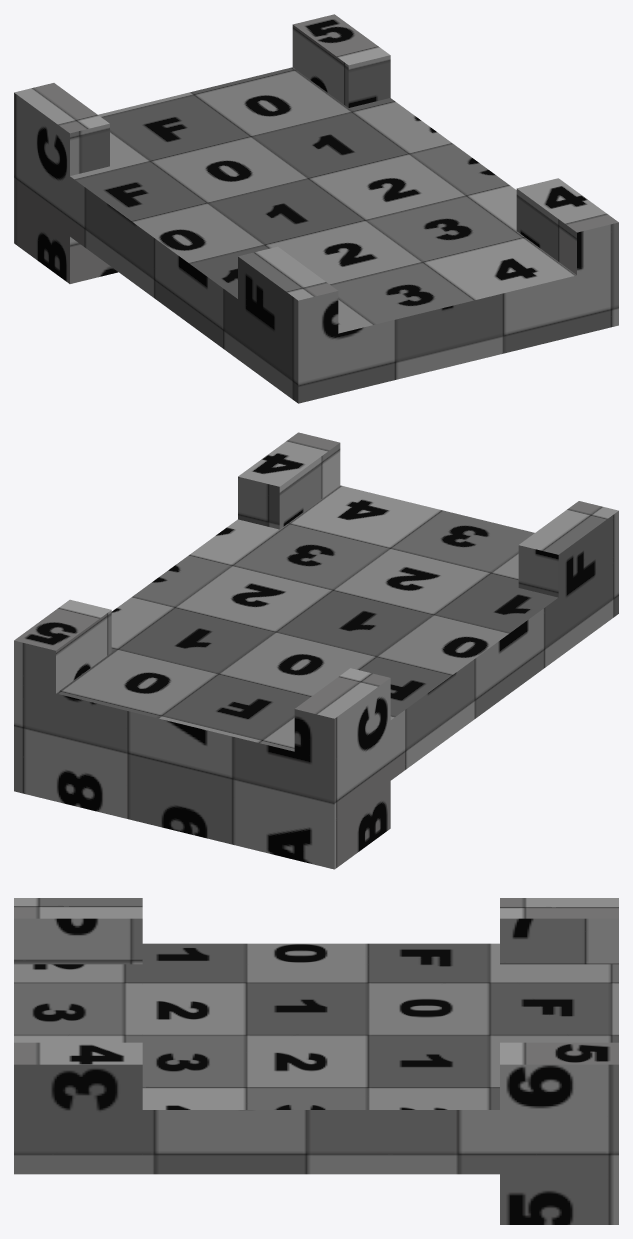
File: bed_test2.fbx
3 views of the same model, one above another, from view 1: azimuth 30°, elevation 25°; view 2: azimuth 150°, elevation 25°; view 3: azimuth 270°, elevation 25° (orthographic). The views are drawn at different scales.
Parts seen in each view (by area): view 1: bed; view 2: bed; view 3: bed.
Boxes of the visible parts, x1,y1,x2,y2 form: bed: [14, 14, 618, 403]; bed: [14, 432, 618, 869]; bed: [14, 898, 618, 1224].
Size of the model in its own units: 1 by 0.4495 by 1.54.
Materials: 1 (1 with a texture image).
